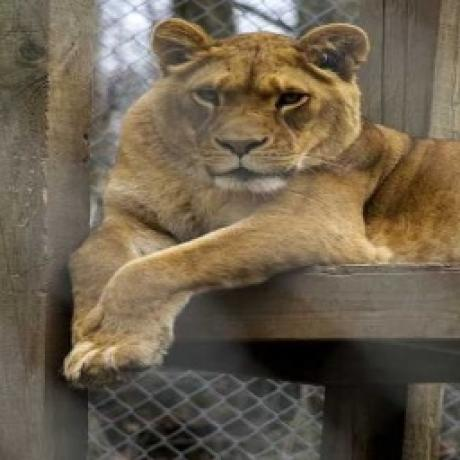Lion: (54, 16, 460, 390)
